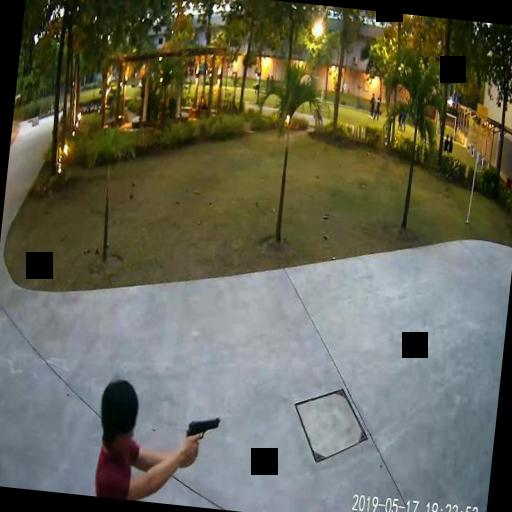Handgun: (183, 413, 220, 460)
